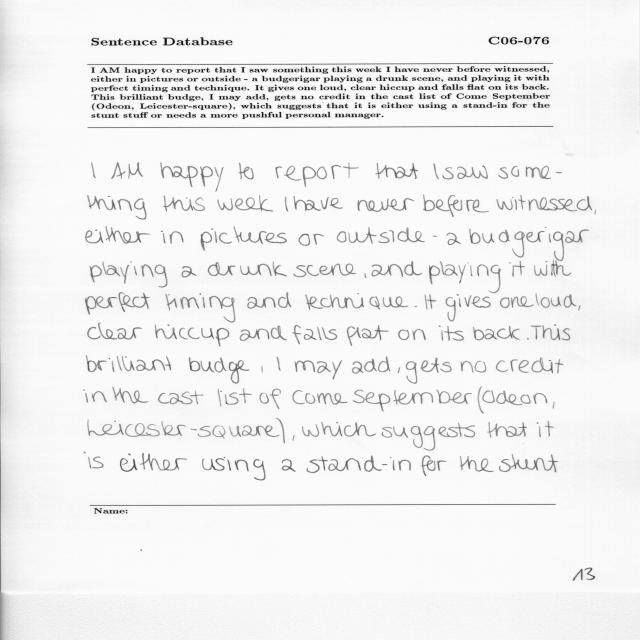word: (88, 419, 285, 444), (469, 227, 589, 261), (353, 390, 472, 412), (382, 423, 475, 451), (429, 262, 501, 294), (201, 226, 287, 251), (166, 293, 236, 323), (90, 262, 168, 288), (275, 163, 359, 187), (160, 162, 224, 192), (306, 455, 411, 473), (306, 293, 409, 310), (155, 325, 229, 347), (189, 357, 249, 384), (497, 195, 593, 211), (337, 227, 425, 244), (202, 457, 266, 480), (423, 195, 489, 217), (88, 196, 147, 220), (86, 293, 150, 315), (87, 356, 171, 372), (120, 453, 187, 472), (446, 294, 491, 322), (208, 262, 287, 277), (406, 358, 451, 384), (86, 226, 150, 244), (496, 357, 563, 374), (499, 454, 558, 472), (295, 360, 342, 380), (88, 323, 142, 340), (217, 195, 273, 211), (347, 325, 389, 346), (292, 325, 337, 344), (499, 166, 563, 179), (293, 264, 357, 277), (372, 261, 422, 277), (358, 198, 414, 212), (293, 390, 348, 404), (321, 422, 376, 436), (293, 196, 343, 211), (248, 292, 292, 309), (163, 195, 205, 212), (497, 391, 548, 405), (240, 326, 287, 341), (376, 163, 419, 179), (352, 356, 390, 374), (473, 326, 520, 340), (534, 260, 572, 277), (218, 388, 252, 407), (442, 166, 488, 180), (487, 422, 527, 438), (531, 325, 570, 341), (158, 391, 203, 404), (112, 387, 148, 403), (536, 294, 577, 308), (111, 162, 143, 179), (460, 456, 494, 472), (421, 456, 446, 477), (478, 387, 495, 414), (259, 389, 281, 409), (500, 296, 534, 308), (439, 326, 464, 341), (84, 452, 104, 468), (299, 234, 325, 246), (461, 361, 487, 373), (398, 329, 426, 340), (84, 390, 107, 403), (536, 421, 554, 437), (161, 231, 183, 244), (509, 261, 525, 277), (239, 163, 254, 180), (302, 424, 319, 437), (282, 459, 296, 472), (182, 266, 197, 278), (447, 233, 461, 245), (425, 295, 436, 310), (433, 164, 439, 180), (92, 163, 96, 178), (277, 357, 281, 371), (285, 197, 288, 212), (578, 305, 581, 311), (292, 435, 295, 441), (261, 366, 263, 373), (553, 402, 555, 409), (398, 368, 400, 374), (365, 273, 367, 278), (595, 210, 596, 214), (433, 236, 437, 237), (527, 338, 529, 340), (415, 306, 417, 307)
